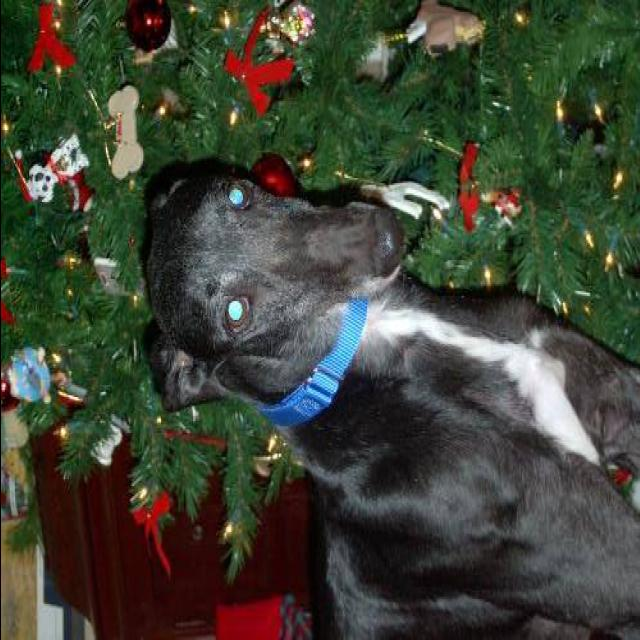dog: (111, 140, 640, 640)
